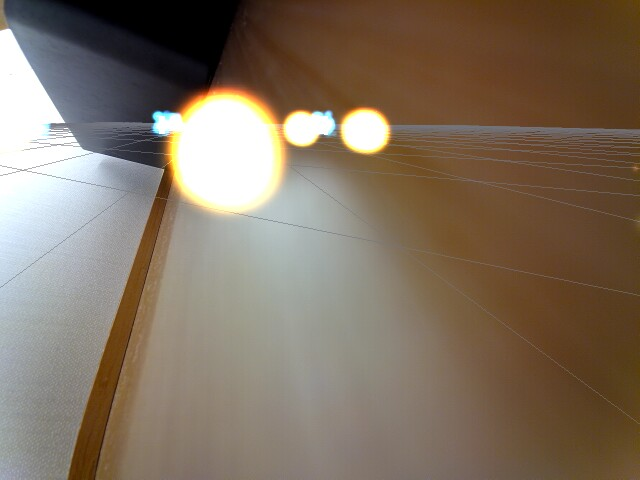firebig: (176, 81, 282, 220)
